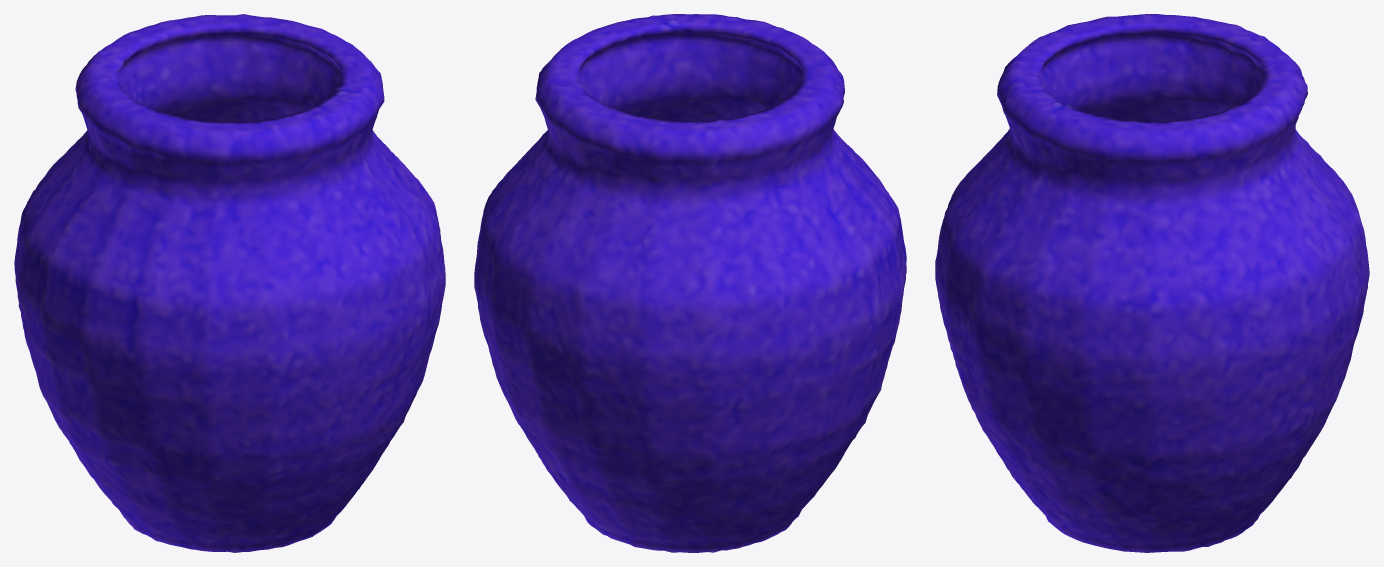
Rendered from vase_100_iters.obj.
3 renders of one model, left to right at view 1: azimuth 30°, elevation 25°; view 2: azimuth 150°, elevation 25°; view 3: azimuth 270°, elevation 25°, orthographic.
Size of the model in its own units: 1.58 by 1.75 by 1.58.
